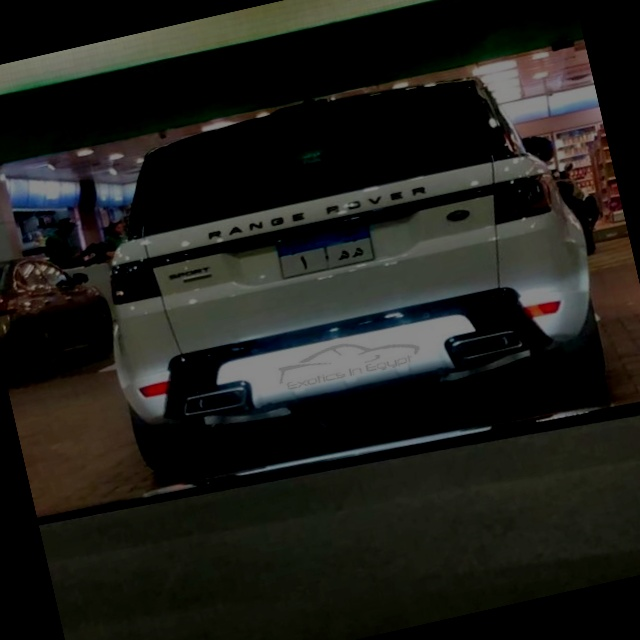License Plate: (271, 218, 378, 282)
